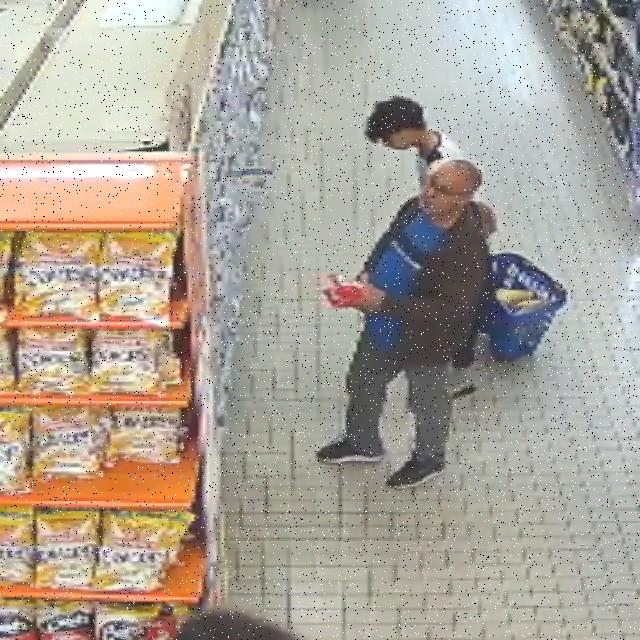article: (322, 274, 364, 308)
hands: (348, 277, 385, 313)
person: (316, 158, 487, 487), (365, 96, 463, 189)
